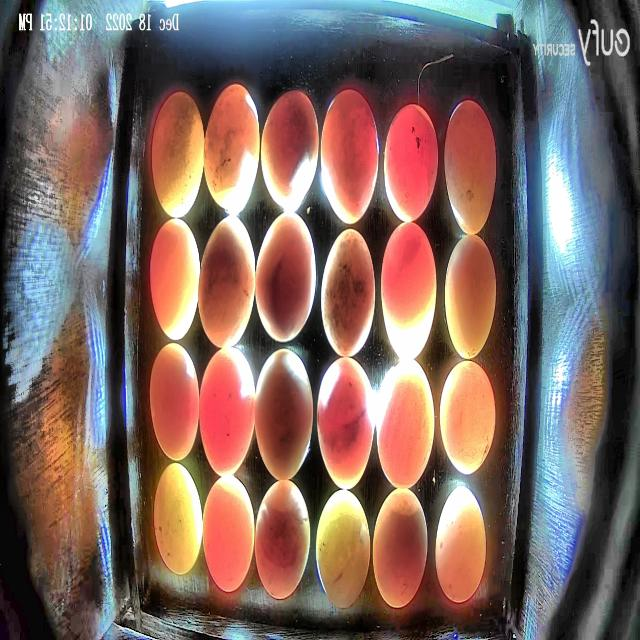DE: (320, 87, 379, 224), (380, 222, 437, 362), (256, 210, 316, 343), (255, 347, 314, 482), (376, 358, 436, 489), (198, 215, 256, 348), (317, 356, 375, 488), (443, 99, 498, 236), (204, 82, 261, 214), (199, 346, 256, 478), (322, 226, 376, 360), (382, 101, 440, 223), (254, 479, 312, 600), (260, 89, 318, 209), (151, 91, 204, 220), (444, 234, 497, 360), (316, 488, 371, 609), (373, 490, 428, 608), (440, 360, 495, 475), (150, 218, 201, 340), (149, 341, 200, 462), (202, 477, 255, 593), (435, 485, 485, 604), (154, 462, 203, 576)
